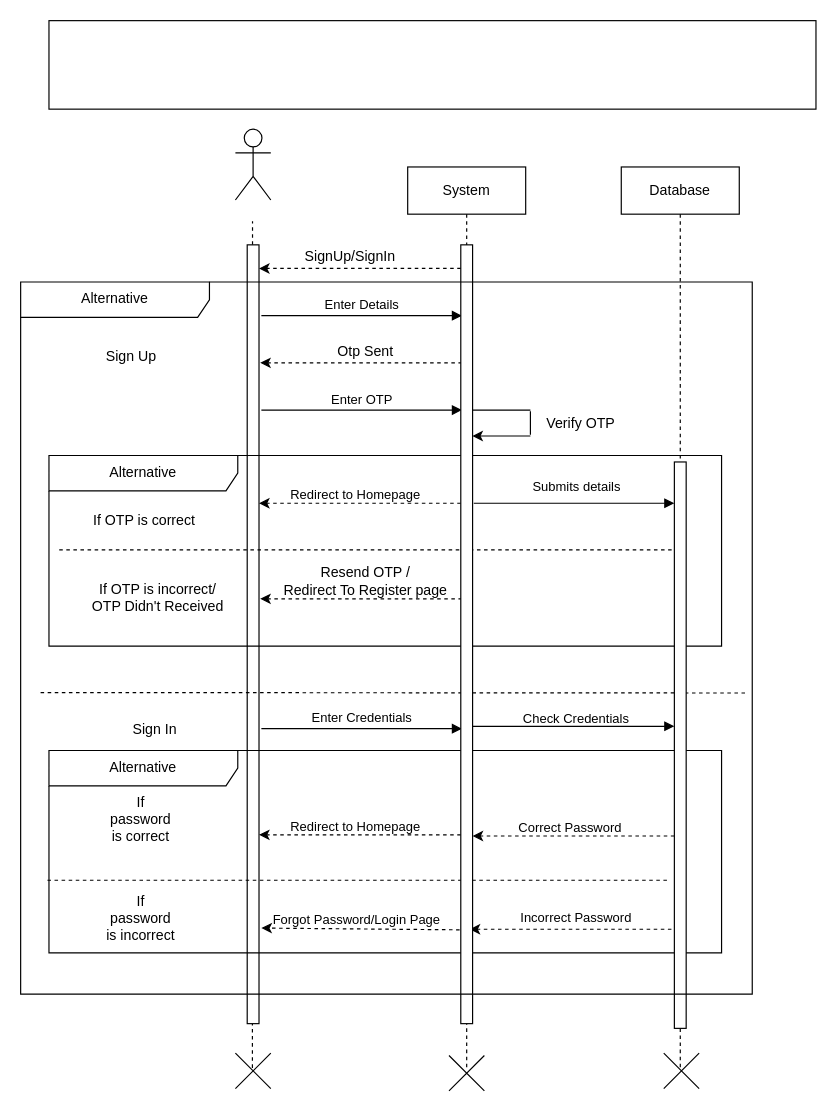
Some shapes in this 837 by 1112 pixel diagram are drawn without their labels. Each missing label, with the centre of its shape:
Login/Register Sequence Diagram: pixel 432 64
User: pixel 252 164
